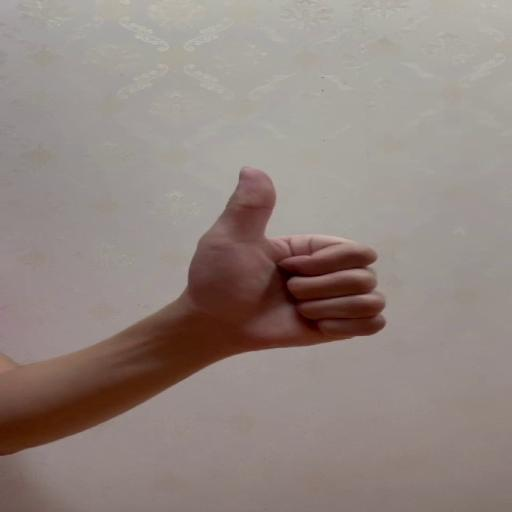thumbs_up: (192, 164, 388, 350)
